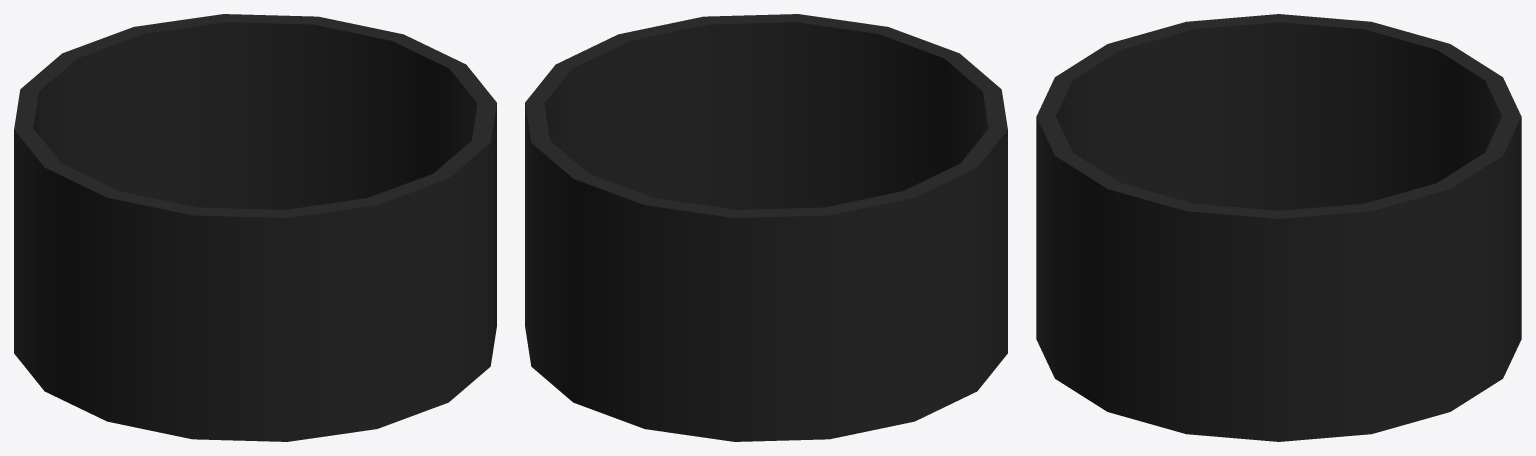
Rendered from CakeBakingTray_02.fbx.
3 renders of one model, left to right at view 1: azimuth 30°, elevation 25°; view 2: azimuth 150°, elevation 25°; view 3: azimuth 270°, elevation 25°, orthographic.
Visible parts, largest first — view 1: CakeBakingTray_02; view 2: CakeBakingTray_02; view 3: CakeBakingTray_02.
Boxes of the visible parts, x1=… form: CakeBakingTray_02: x1=14, y1=14, x2=496, y2=441; CakeBakingTray_02: x1=525, y1=14, x2=1007, y2=441; CakeBakingTray_02: x1=1036, y1=14, x2=1521, y2=441.
Size of the model in its own units: 0.1345 by 0.0682 by 0.1345.
